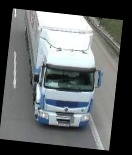truck: (13, 10, 109, 132)
